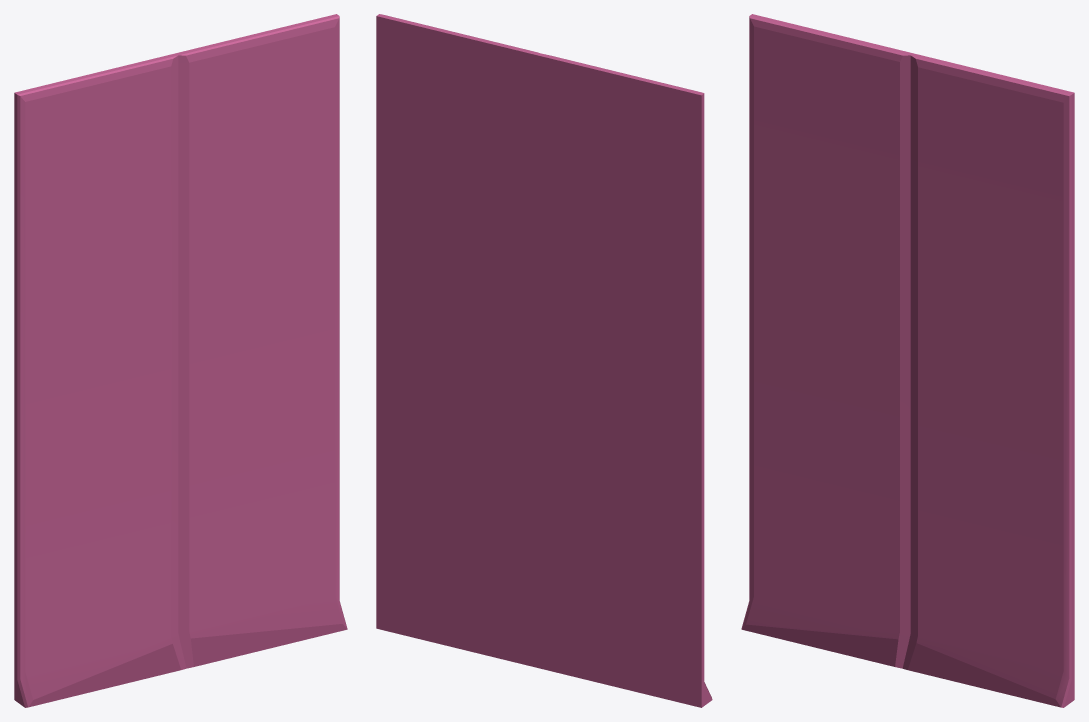
The model's file is WallPanelSkirtingBoard_Model.fbx.
3 views of the same model, side by side, from view 1: azimuth 30°, elevation 25°; view 2: azimuth 150°, elevation 25°; view 3: azimuth 330°, elevation 25° (orthographic).
Parts seen in each view (by area): view 1: pPlane16; view 2: pPlane16; view 3: pPlane16.
Part boxes in pixels (box(x1,y1,x2,y2)): pPlane16: box(14, 14, 347, 707); pPlane16: box(376, 14, 712, 707); pPlane16: box(741, 14, 1074, 707).
Bounding box in the file's own units: 170 × 307 × 11.5.
Materials: 1 (1 with a texture image).
